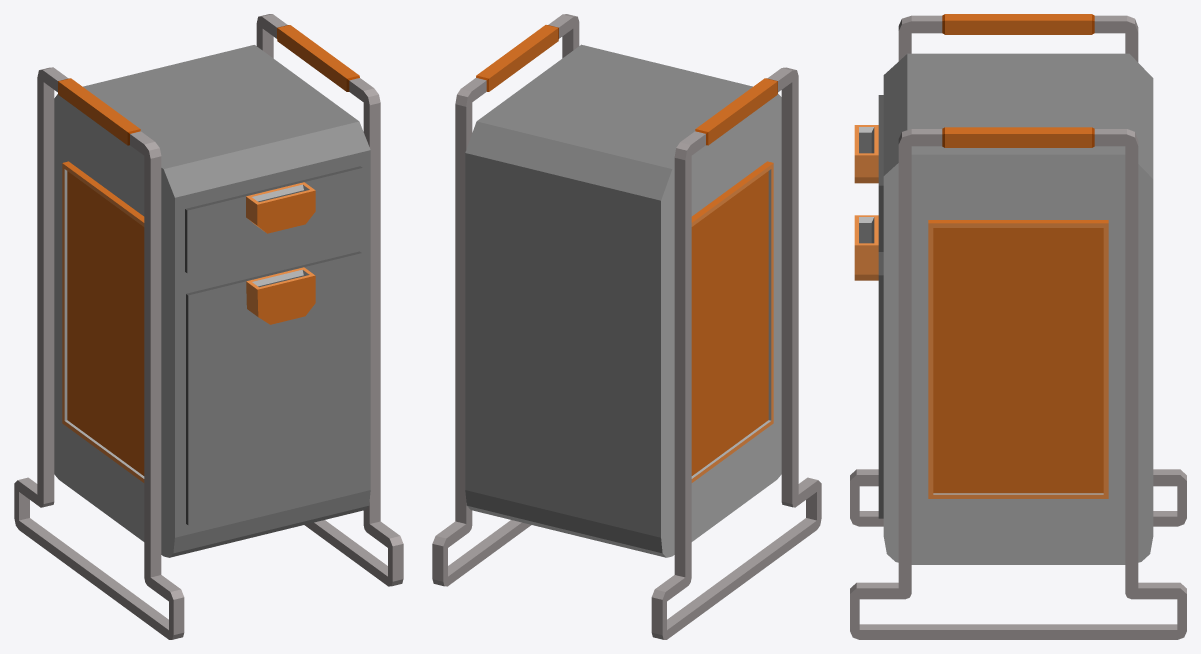
The model's file is Drawer_01.glb.
The picture shows the model from 3 angles, left to right: view 1: azimuth 30°, elevation 25°; view 2: azimuth 150°, elevation 25°; view 3: azimuth 270°, elevation 25°; orthographic projection. The views are drawn at different scales.
Visible parts, largest first — view 1: Drawer_01; view 2: Drawer_01; view 3: Drawer_01.
Boxes of the visible parts, x1=… form: Drawer_01: x1=14, y1=14, x2=403, y2=639; Drawer_01: x1=432, y1=14, x2=821, y2=639; Drawer_01: x1=850, y1=14, x2=1186, y2=639.
Size of what is drawn, in the model's own units: 0.6533 by 1.29 by 0.7757.
Materials: 1 (1 with a texture image).
